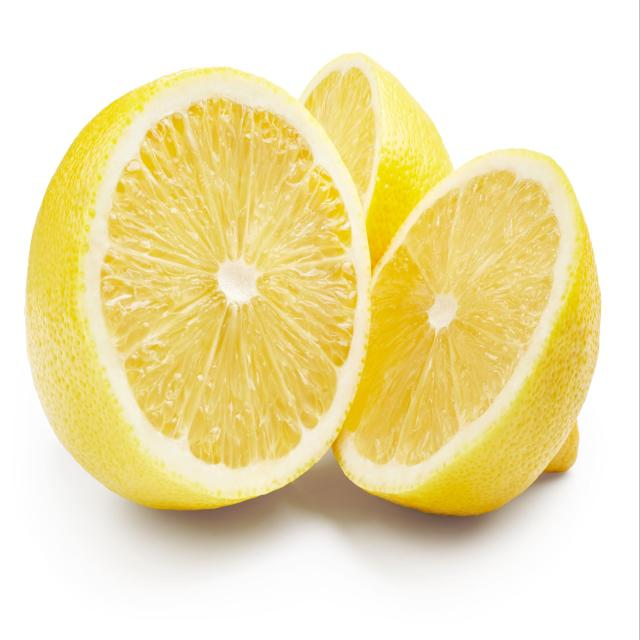lemon: (19, 57, 376, 522)
